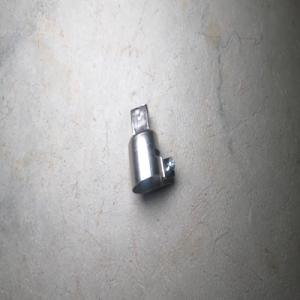MetalPart: (127, 102, 176, 194)
